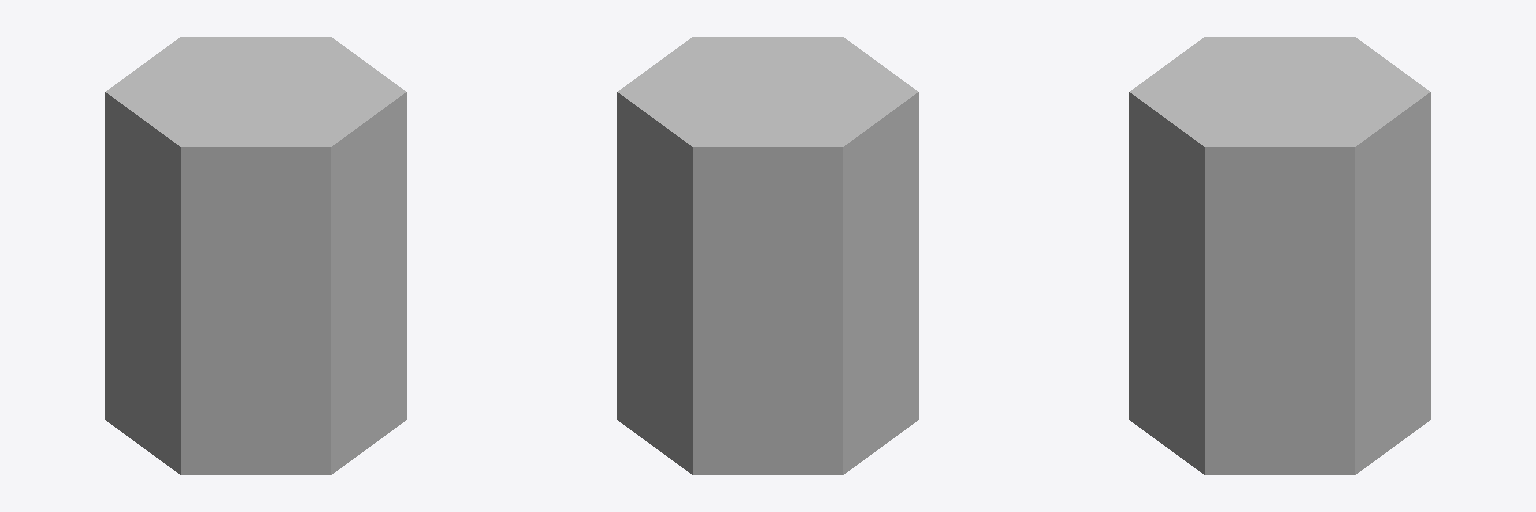
The model's file is TOOLS_Templates_Hexagon_Cut_Outs.obj.
The picture shows the model from 3 angles: view 1: azimuth 30°, elevation 25°; view 2: azimuth 150°, elevation 25°; view 3: azimuth 270°, elevation 25°; orthographic projection.
Visible parts, largest first — view 1: object_1; view 2: object_1; view 3: object_1.
Part boxes in pixels (left/top/right/bottom): object_1: left=105, top=37, right=406, bottom=474; object_1: left=617, top=37, right=918, bottom=474; object_1: left=1129, top=37, right=1430, bottom=474.
Size of the model in its own units: 7.21 by 10 by 8.32.